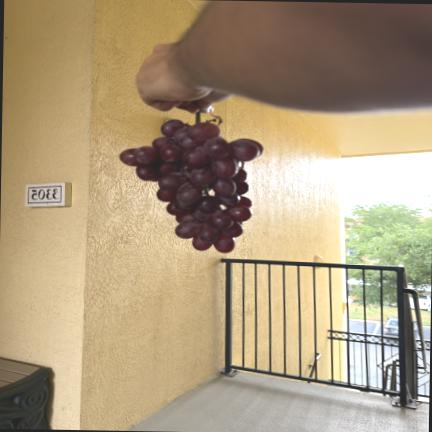grape_cluster: (119, 112, 263, 253)
